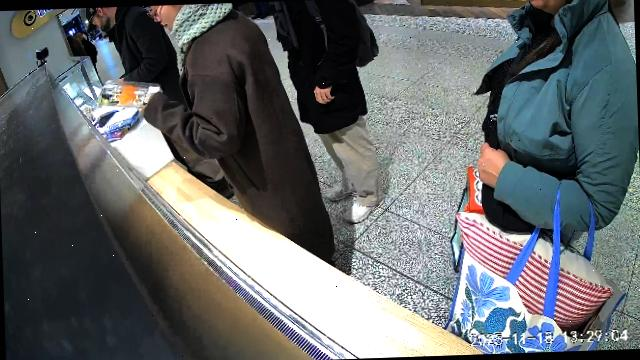sushi-box: (96, 81, 165, 108)
